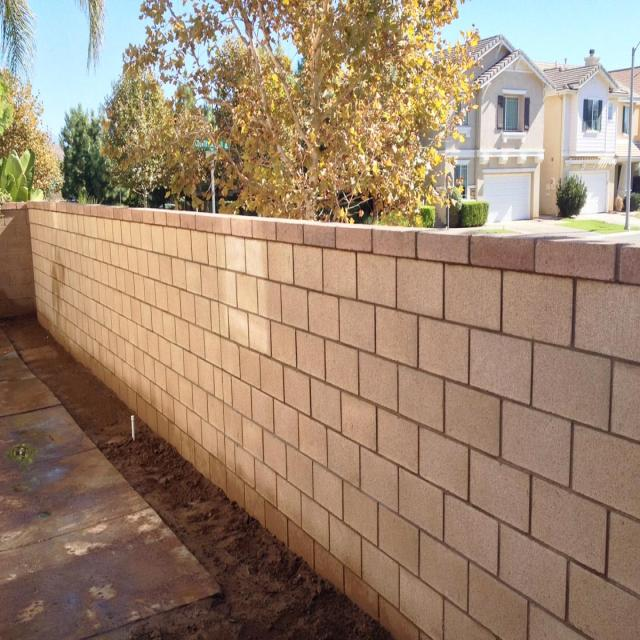Concrete: (0, 201, 640, 640)
